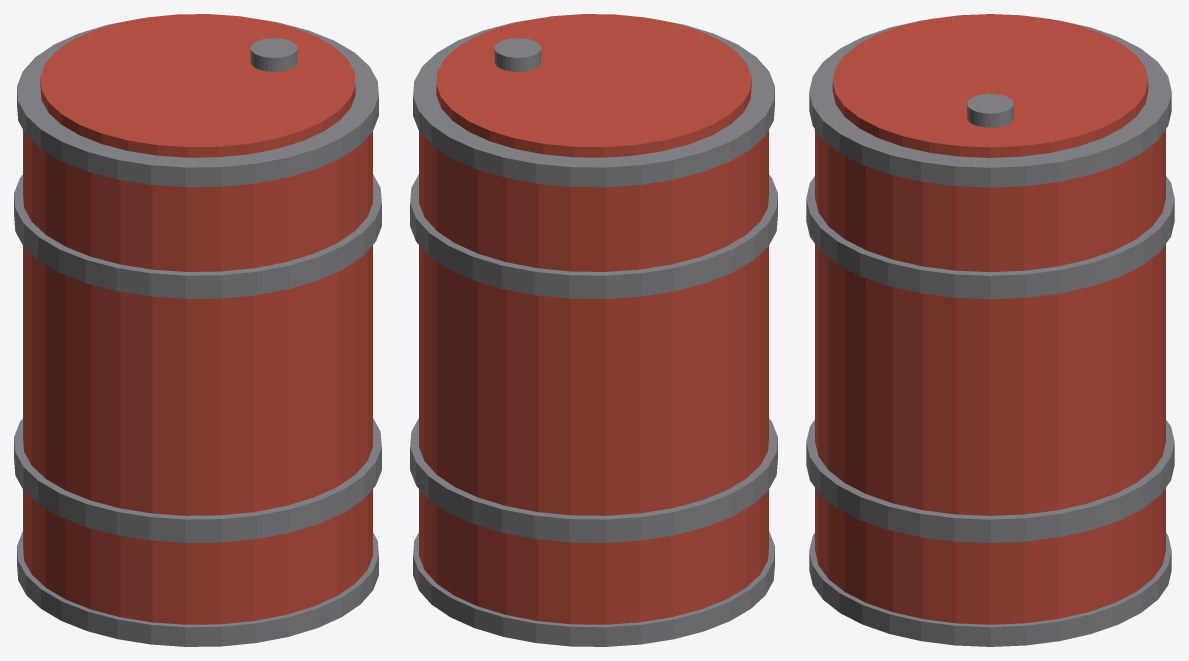
File: barrel.glb
3 renders of one model, left to right at view 1: azimuth 30°, elevation 25°; view 2: azimuth 150°, elevation 25°; view 3: azimuth 270°, elevation 25°, orthographic.
Parts seen in each view (by area): view 1: Barrel; view 2: Barrel; view 3: Barrel.
Part boxes in pixels (x1,y1,x2,y2): Barrel: [14, 14, 381, 646]; Barrel: [410, 14, 777, 646]; Barrel: [806, 14, 1174, 646].
Size of the model in its own units: 0.63 by 0.9506 by 0.63.
